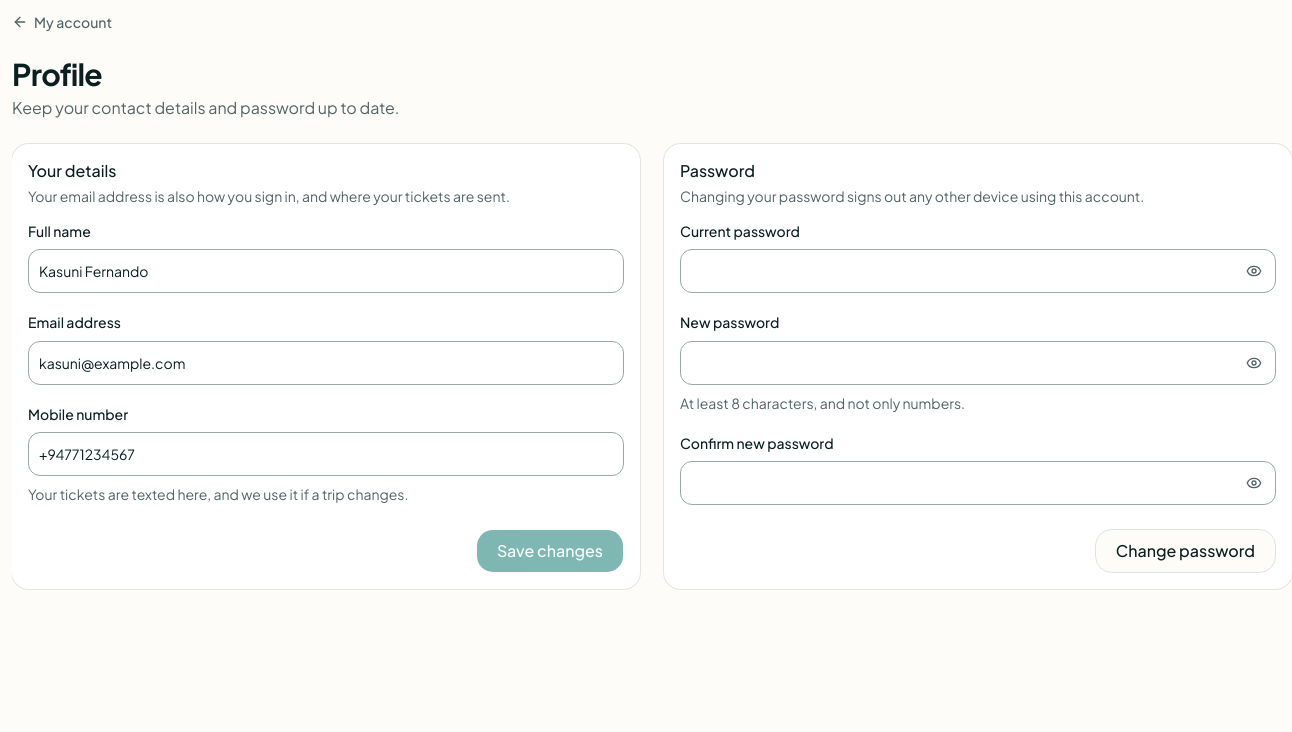
Test: ProfileSettings › shows the server's complaint against the right field
This screenshot has width=1292, height=732.
Step 1. Replace the text in the field labelled "Email address" with "taken@example.com" → (326, 362), box top-left (28, 340), bottom-right (624, 384)
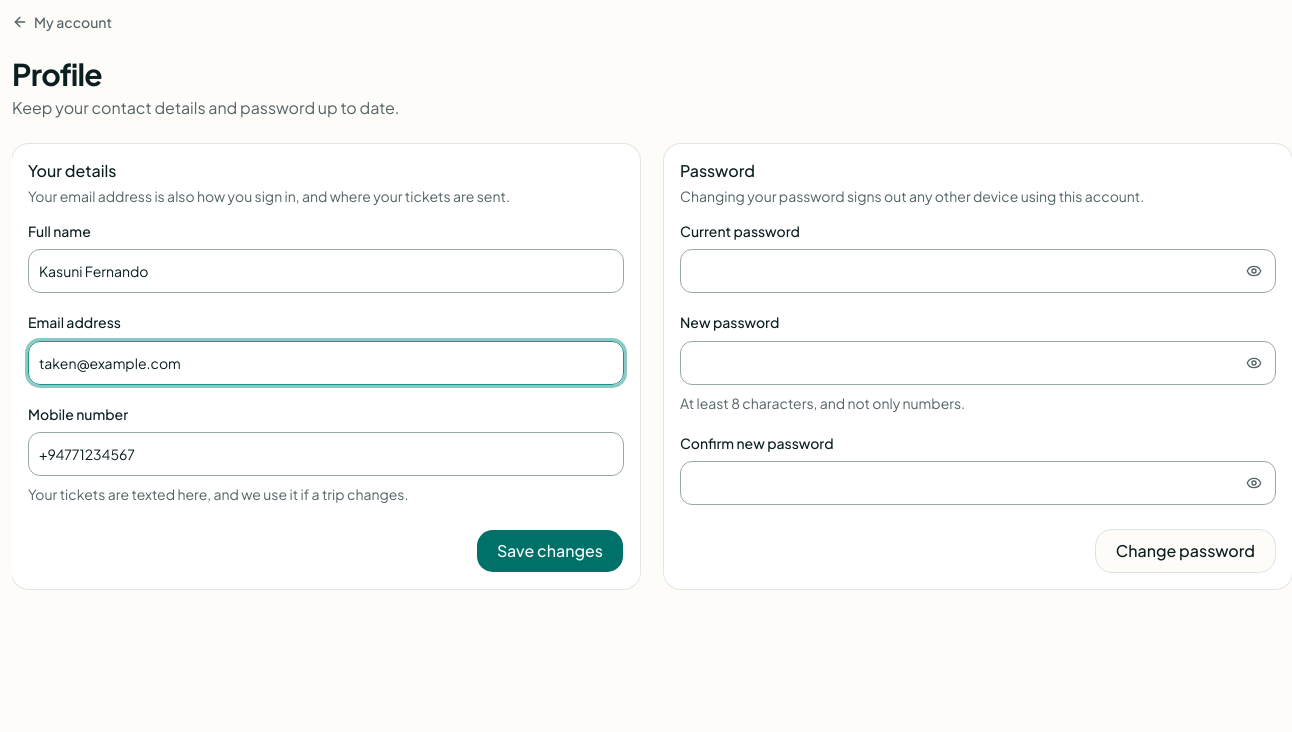
Step 2. Click the button "Save changes" → (550, 551), box top-left (476, 529), bottom-right (624, 573)
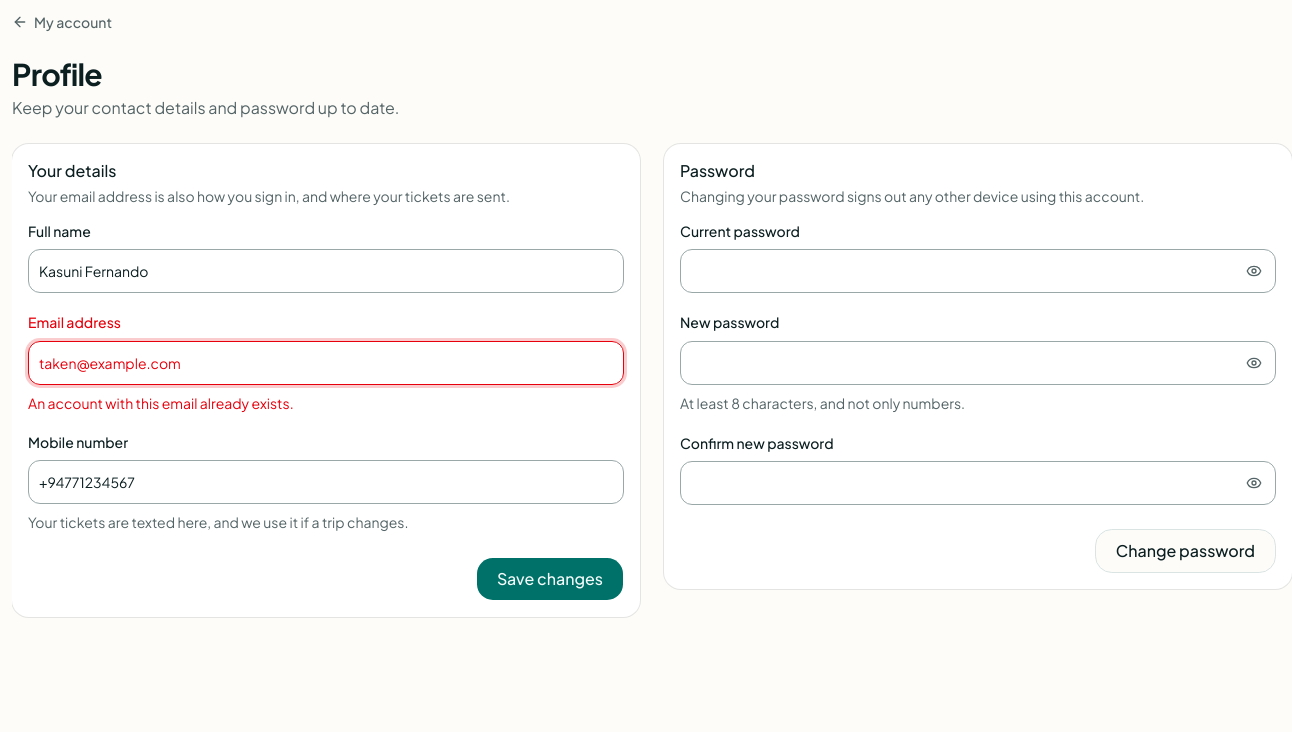
Result: the text "An account with this email already exists." is shown at top-left (28, 394), bottom-right (294, 412)
